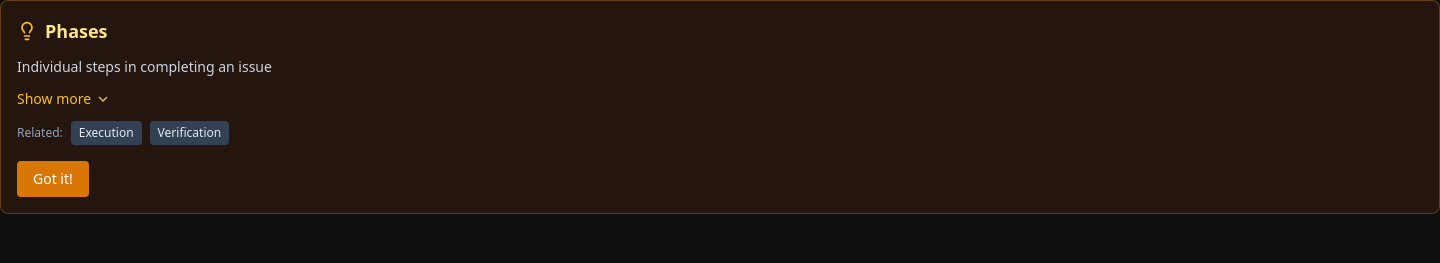
Test: ConceptCard › Expand/Collapse Functionality › should expand to show full explanation when "Show more" is clicked
This screenshot has width=1440, height=263.
Click the button "Show more".
click(64, 99)  # box 17,89 -> 111,109
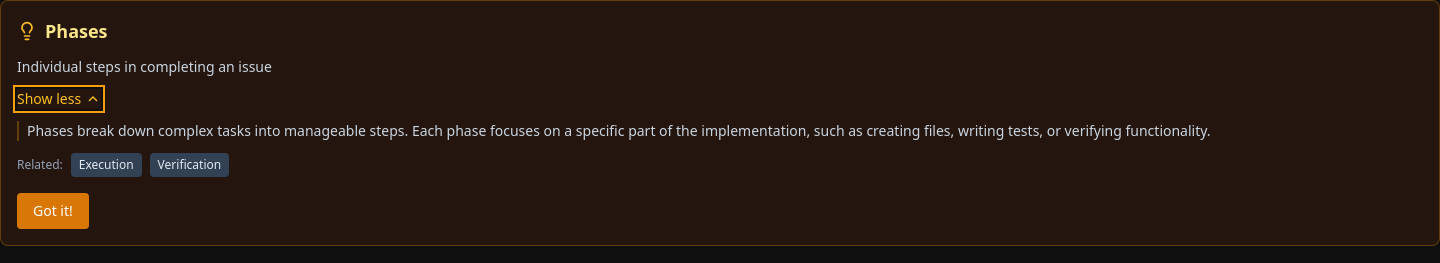
expect the text "Phases break down complex tasks into manageable steps" is shown: met, box 27,121 -> 1211,140
